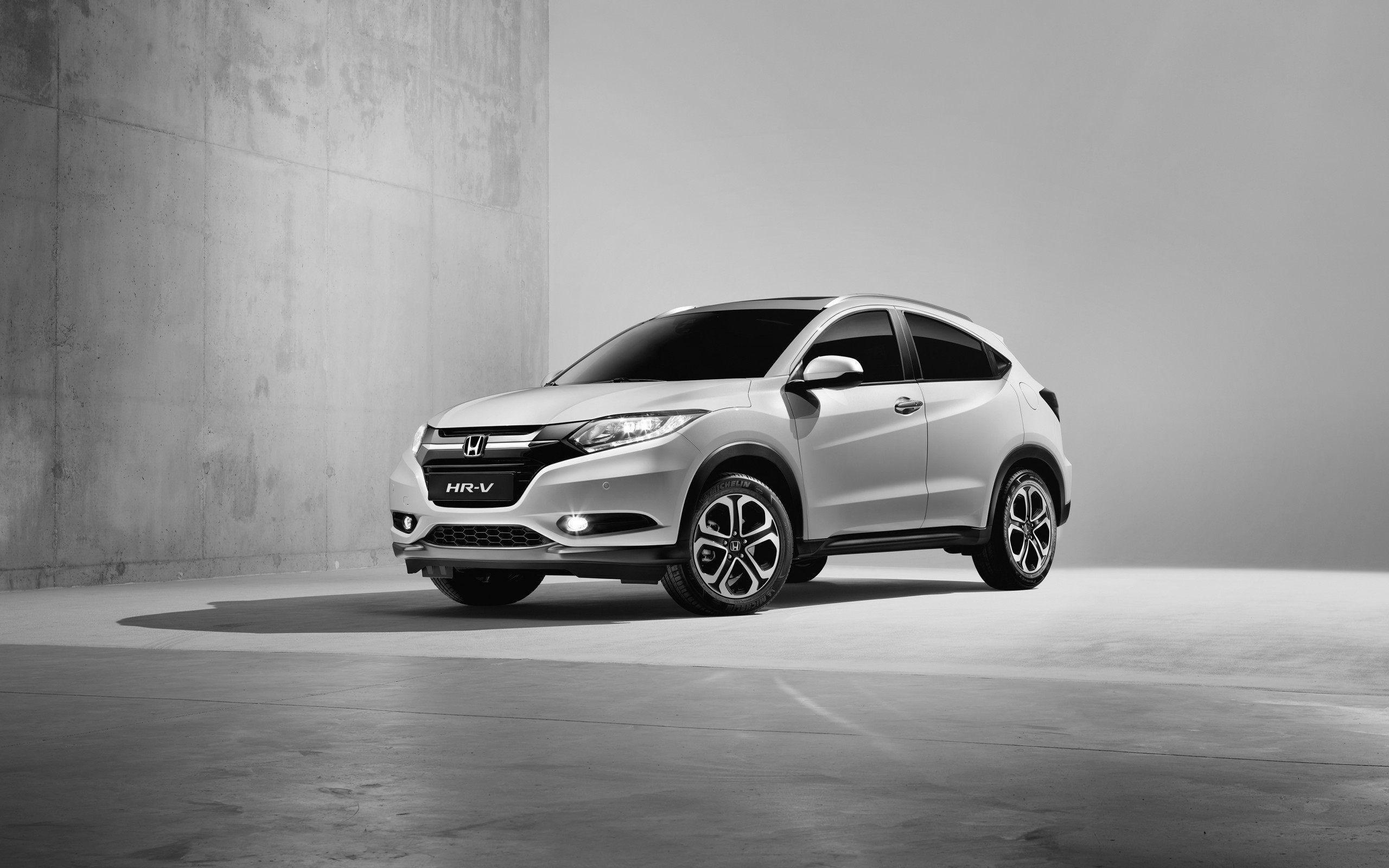Car hood: (419, 376, 753, 432)
Fender - -F-L-: (676, 369, 821, 554)
Fender - -R-L-: (986, 342, 1077, 513)
Front bumper: (383, 436, 707, 572)
Headlight - -L-: (560, 404, 708, 451)
Passenger-s door - -F-L-: (781, 289, 937, 561)
Passenger-s door - -R-L-: (893, 281, 1027, 552)
Rear bumper: (1051, 437, 1085, 536)
Rear light - -L-: (1036, 384, 1065, 425)
Side bumper - -L-: (786, 494, 996, 584)
Side mirror - -L-: (791, 346, 861, 402)
